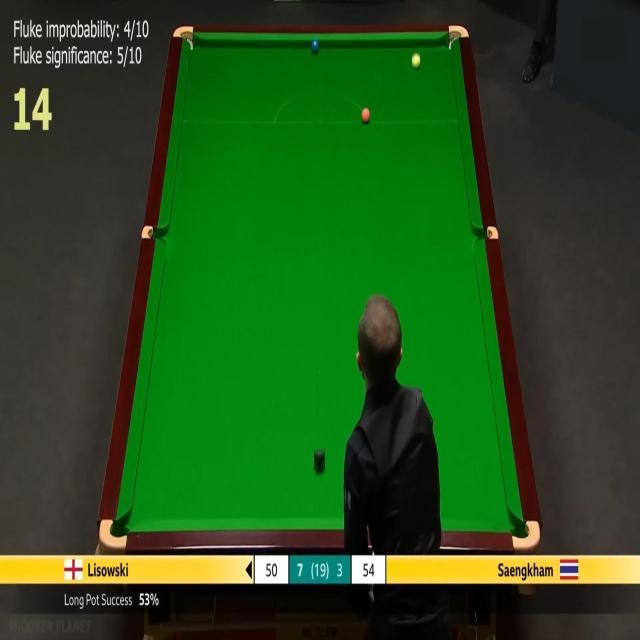Ball: (314, 450, 325, 470), (362, 107, 370, 123), (412, 53, 420, 68), (311, 40, 319, 52)
